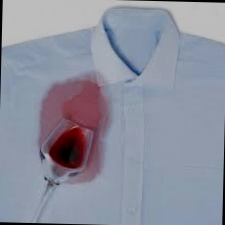wine: (40, 81, 107, 127), (93, 129, 110, 167), (69, 169, 105, 183)
